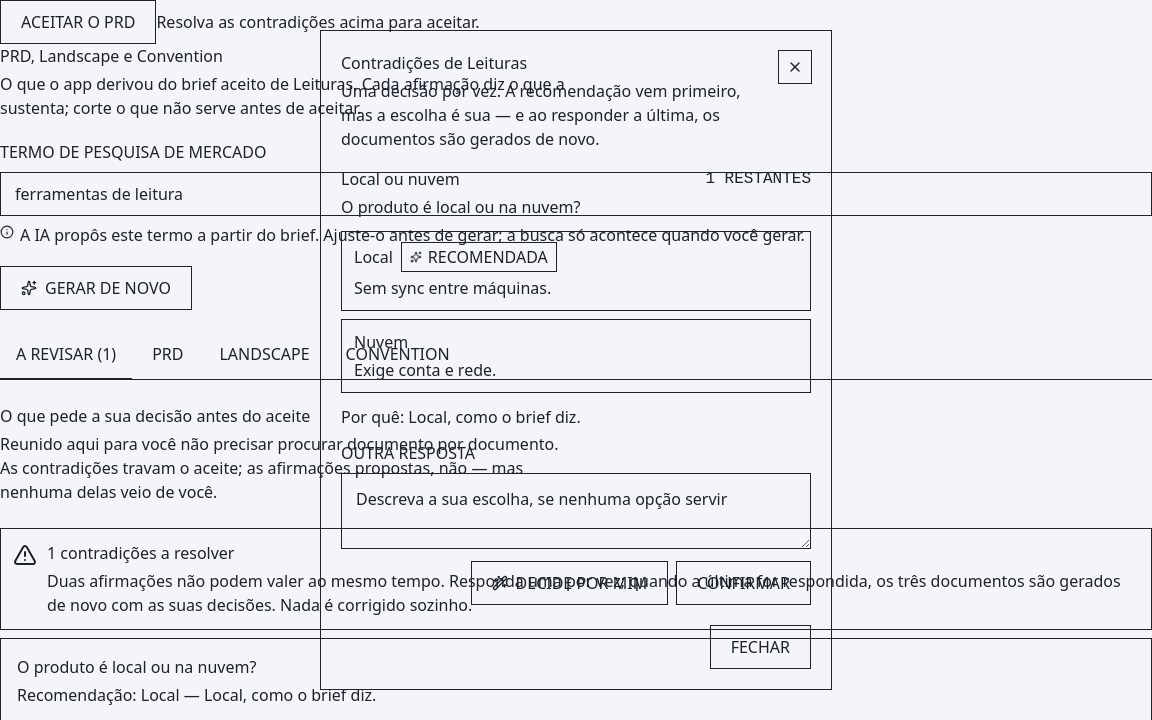
Test case: contradições — pergunta no pop-up da M8-F03 (critério 6, emenda E1) › trava o aceite, com a razão ao lado do botão
The width and height of the screenshot is (1152, 720).
Click the button named "Fechar" at (795, 67), box [779,51,811,83]
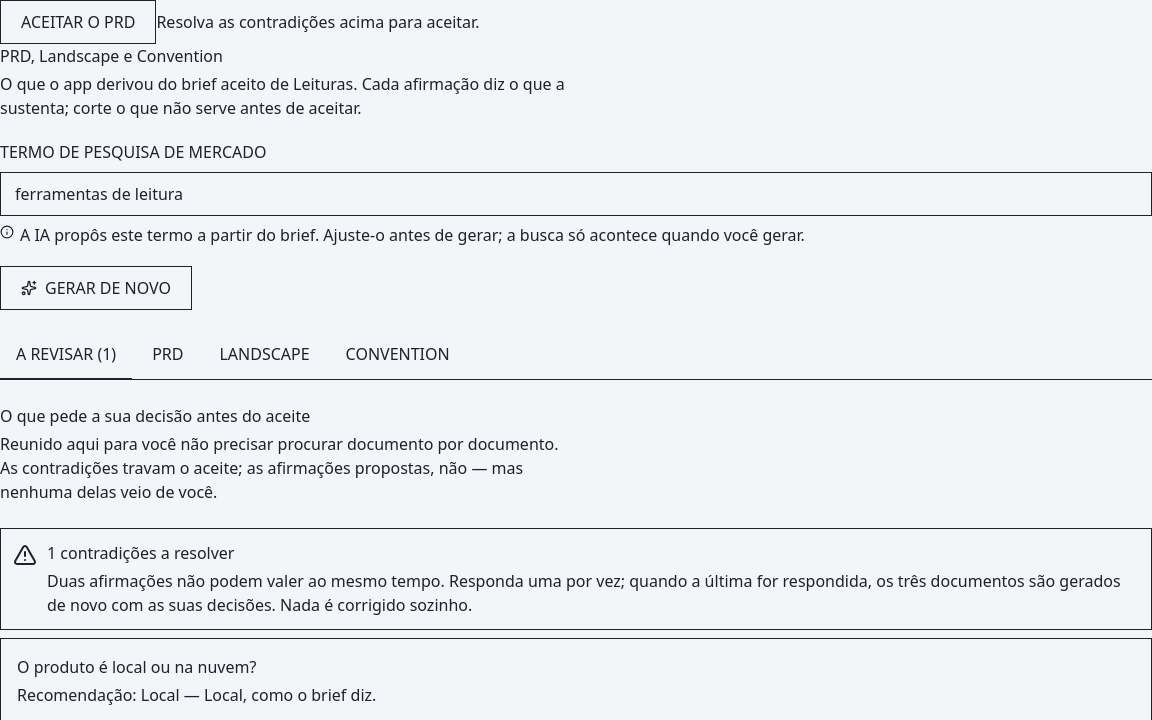
Expected: the button "Aceitar o PRD" is disabled, [0,0,156,44]
Expected: the dialog is gone
